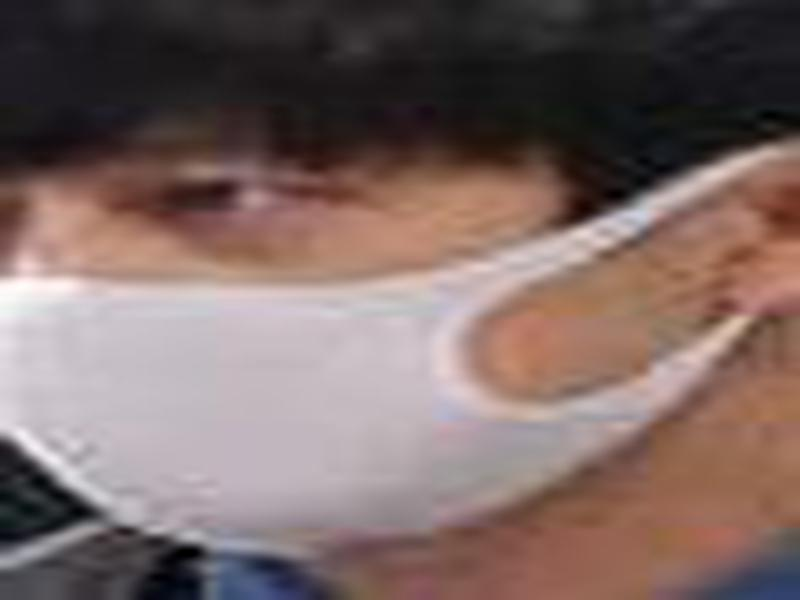with_mask: (1, 2, 798, 560)
